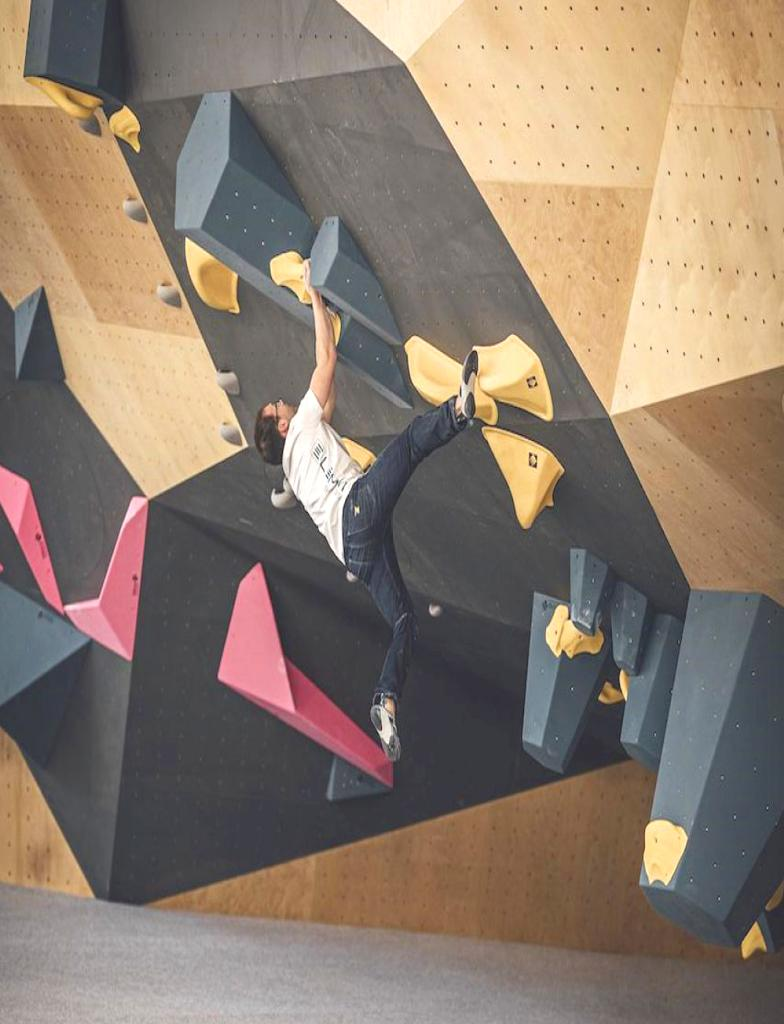jug: (643, 819, 687, 887), (269, 251, 310, 305), (108, 106, 140, 152)
pinch: (474, 334, 553, 420)
undercling: (482, 426, 565, 528), (185, 238, 240, 314), (25, 77, 102, 121)
volume: (639, 593, 783, 947), (217, 563, 393, 786), (174, 94, 315, 326), (522, 593, 607, 773), (64, 497, 148, 661), (311, 216, 401, 345), (0, 582, 90, 705), (0, 466, 64, 615), (621, 615, 680, 769), (13, 287, 64, 382), (570, 549, 614, 634), (610, 582, 647, 676)
